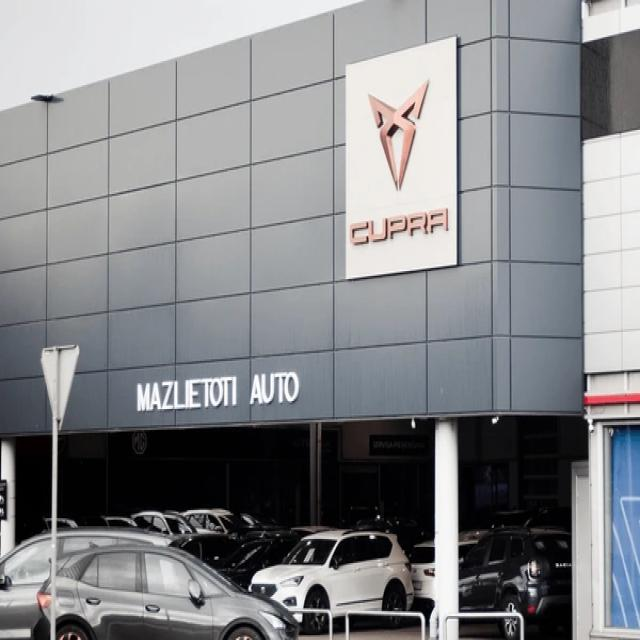cupra: (366, 71, 436, 198)
